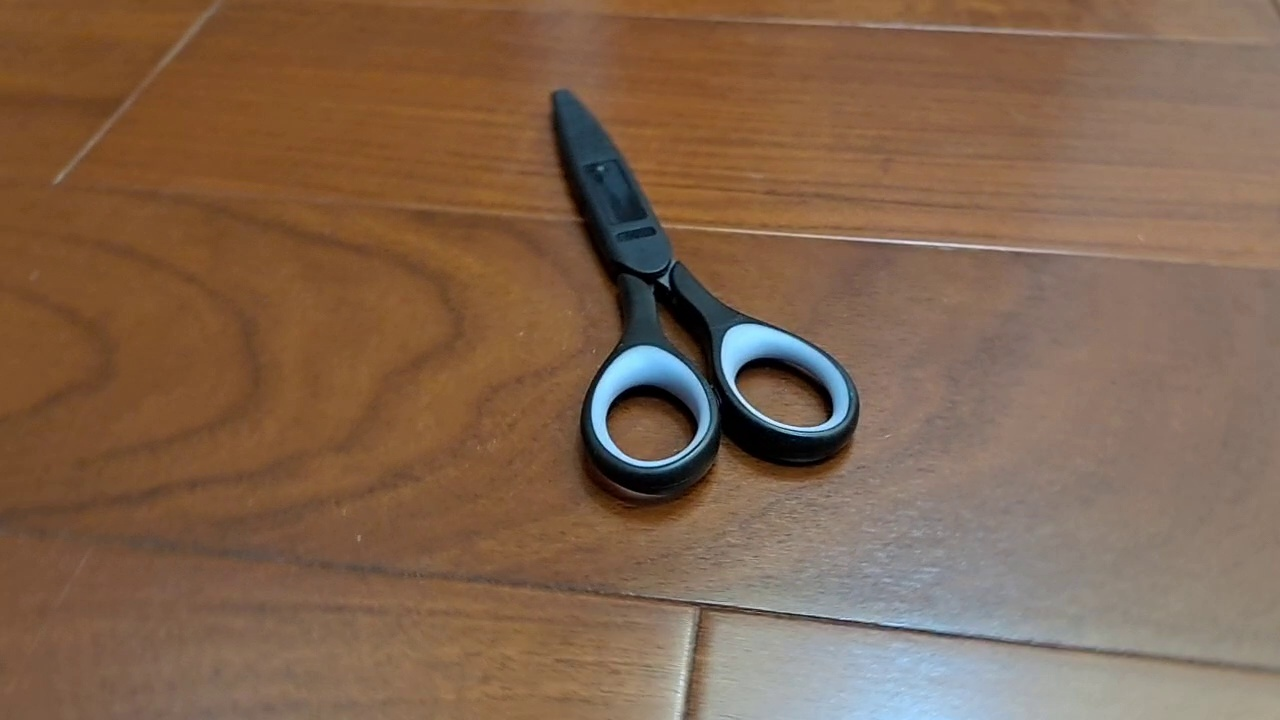scissors: (549, 88, 860, 496)
